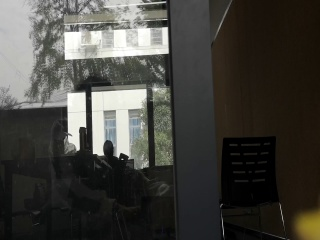room: (4, 3, 309, 240)
